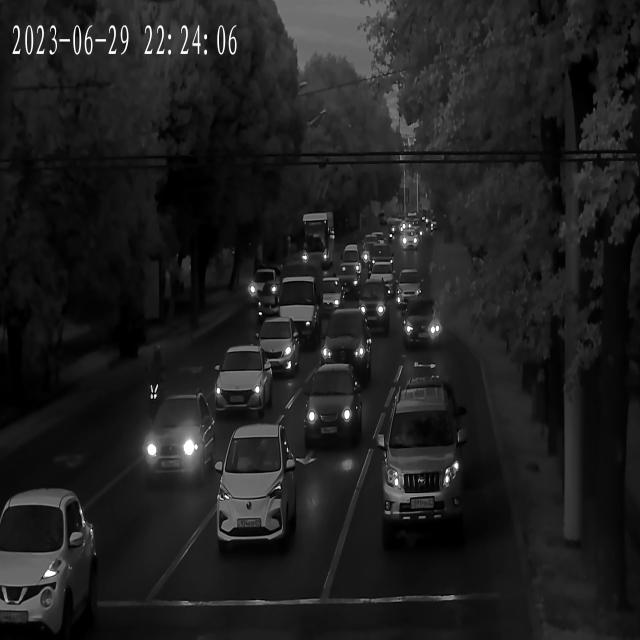Bus: (299, 209, 339, 266)
Car: (0, 489, 95, 638), (376, 389, 467, 528), (213, 425, 297, 559), (142, 394, 214, 482), (212, 345, 276, 419), (305, 364, 364, 444), (318, 311, 374, 380), (397, 373, 458, 426), (250, 322, 302, 378), (348, 279, 395, 333), (401, 305, 443, 351), (249, 269, 283, 307), (334, 249, 370, 284), (391, 270, 425, 306), (310, 279, 346, 311), (367, 245, 394, 269), (401, 232, 419, 250)
Truck: (279, 276, 325, 346)
